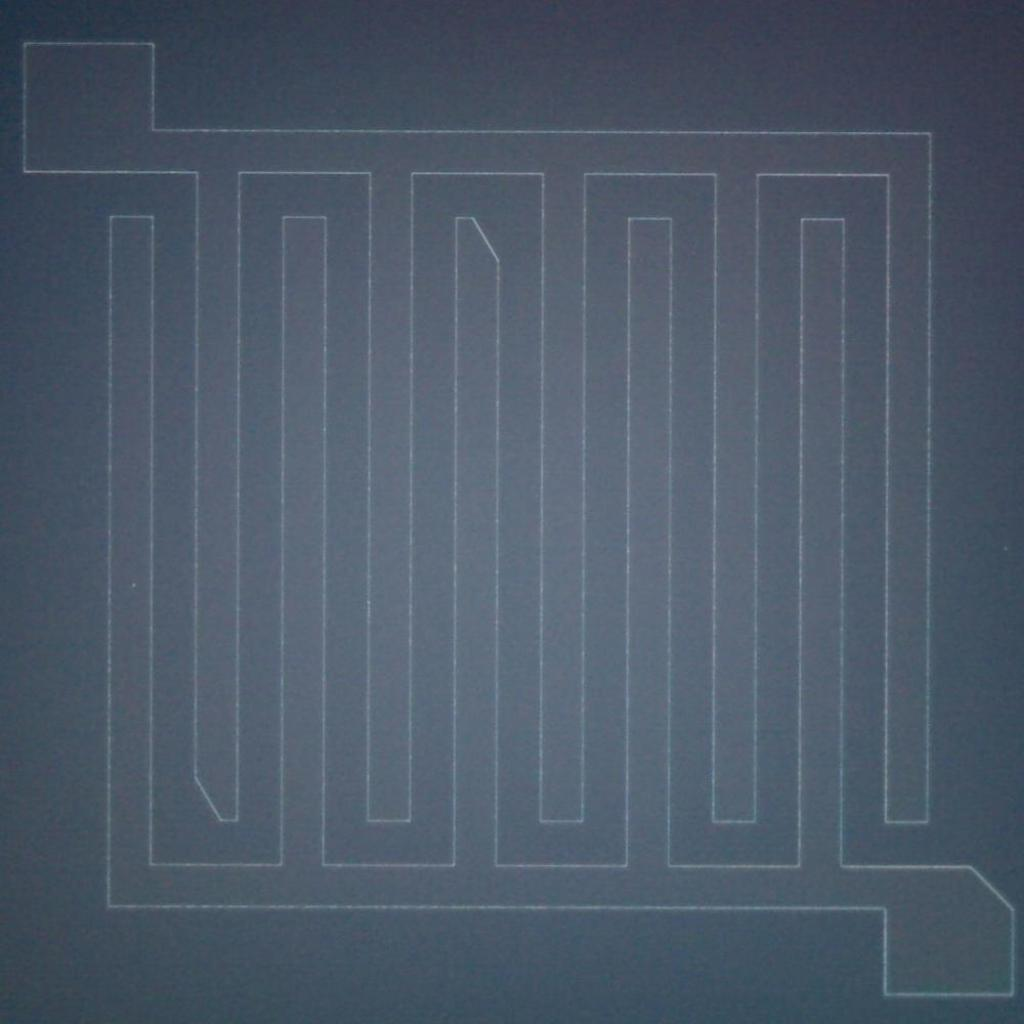edge circuit: (446, 200, 511, 276), (957, 855, 1023, 927), (184, 771, 243, 836)
